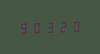nine: (18, 21, 30, 34)
three: (44, 20, 56, 33)
two: (57, 19, 69, 33)
zero: (31, 20, 43, 34), (70, 19, 82, 32)
